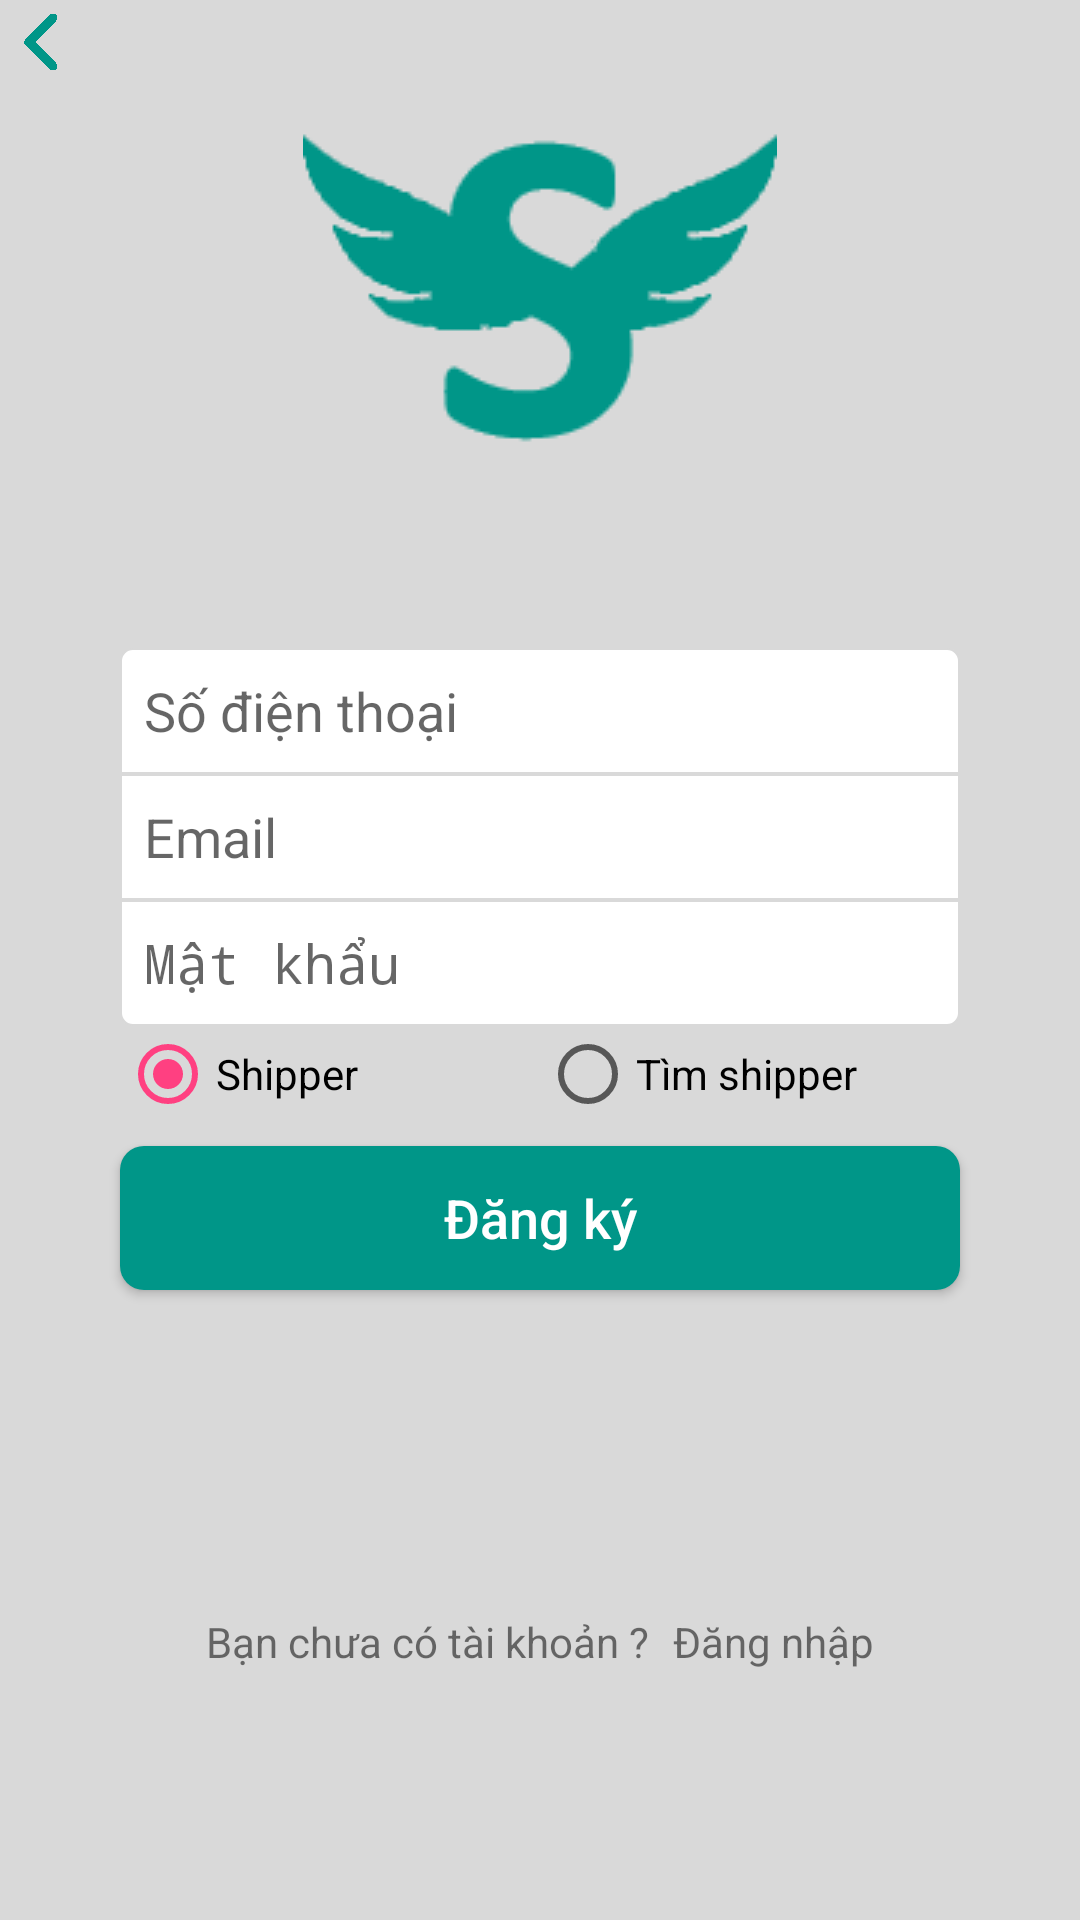

Icon bounding boxes for this 1080 × 1920 phone screenshot, format bbox(x1, y1, x2, y2):
arrow back: bbox(24, 14, 57, 70)
